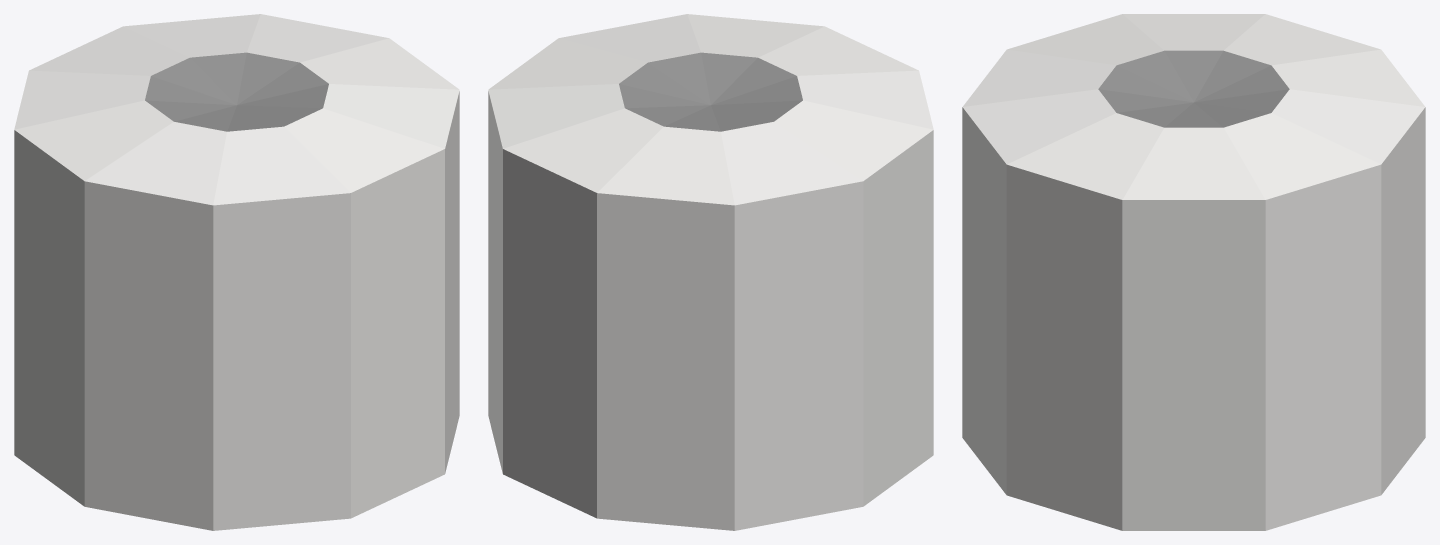
File: Paper_1.fbx
3 renders of one model, left to right at view 1: azimuth 30°, elevation 25°; view 2: azimuth 150°, elevation 25°; view 3: azimuth 270°, elevation 25°, orthographic.
Parts seen in each view (by area): view 1: Paper_1; view 2: Paper_1; view 3: Paper_1.
Part boxes in pixels (x1,y1,x2,y2): Paper_1: (14, 14, 459, 530); Paper_1: (488, 14, 933, 530); Paper_1: (962, 14, 1425, 530).
Size of the model in its own units: 18.49 by 19.44 by 16.86.
